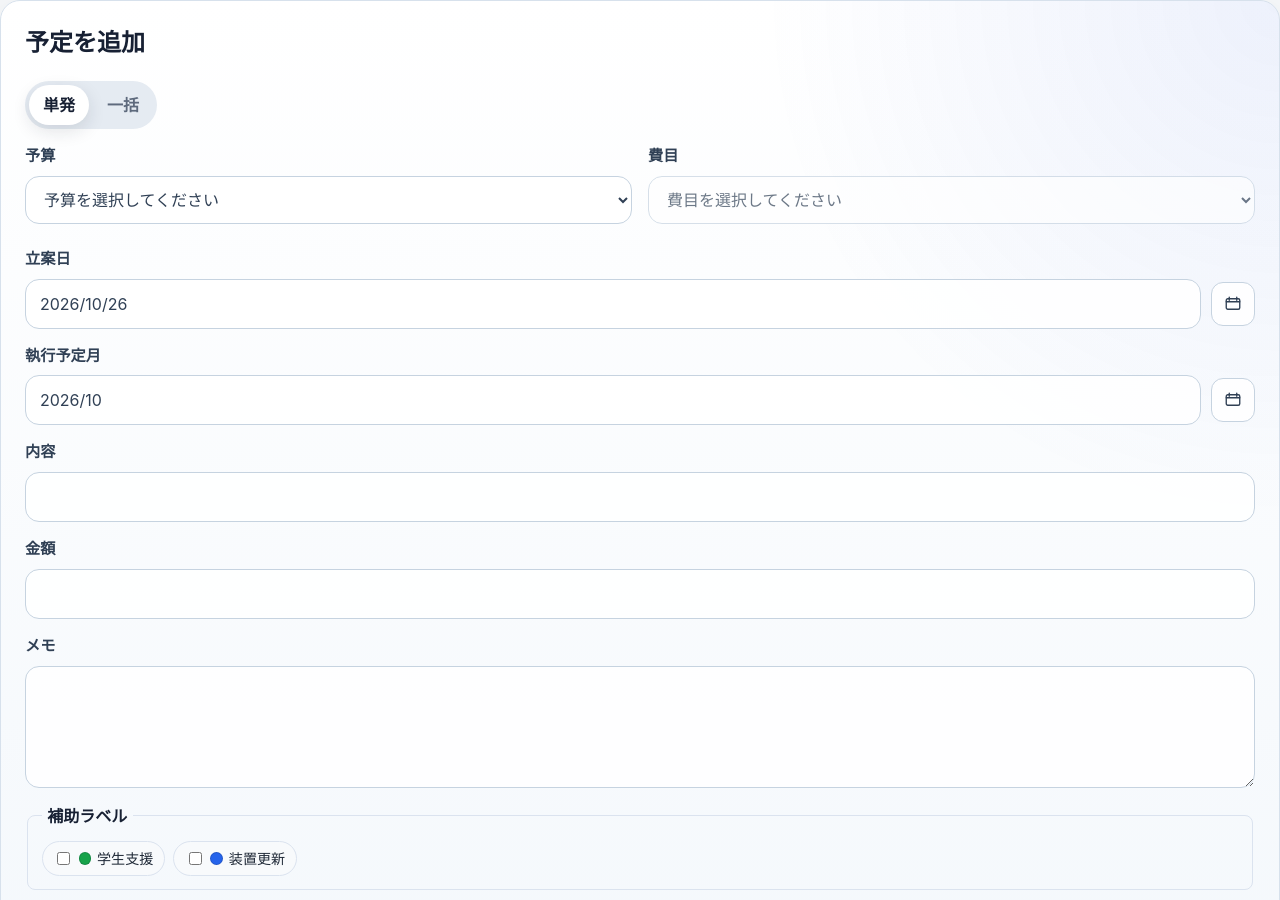
Scenario: PlannedItemForm › moves the month calendar by year and selects a YYYY/MM month
Replace the text in the field labelled "執行予定月" with "2026/08". click: (613, 400)
box: [25, 375, 1201, 425]
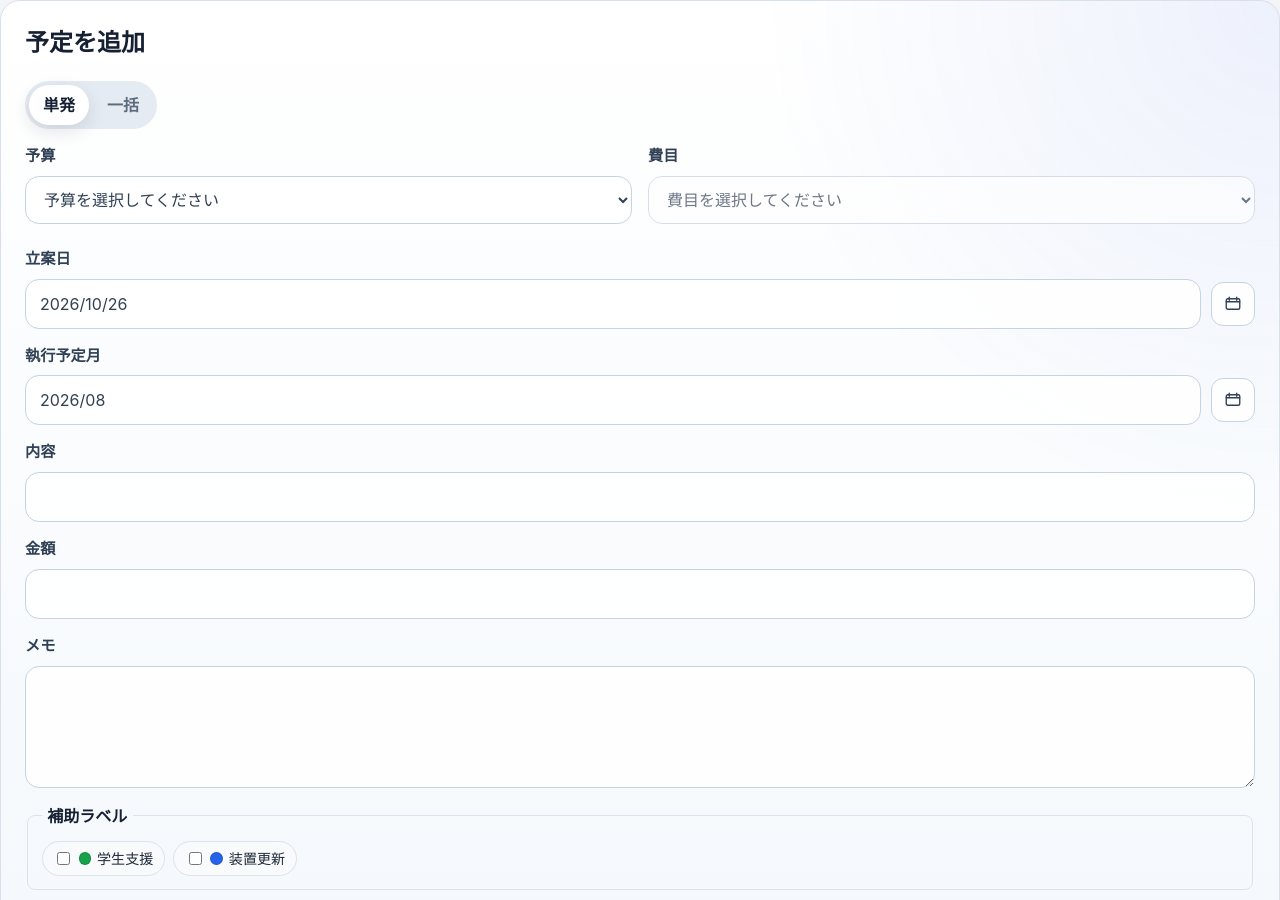
Click the button named "執行予定月カレンダーを開く". click: (1233, 400)
box: [1211, 378, 1255, 422]
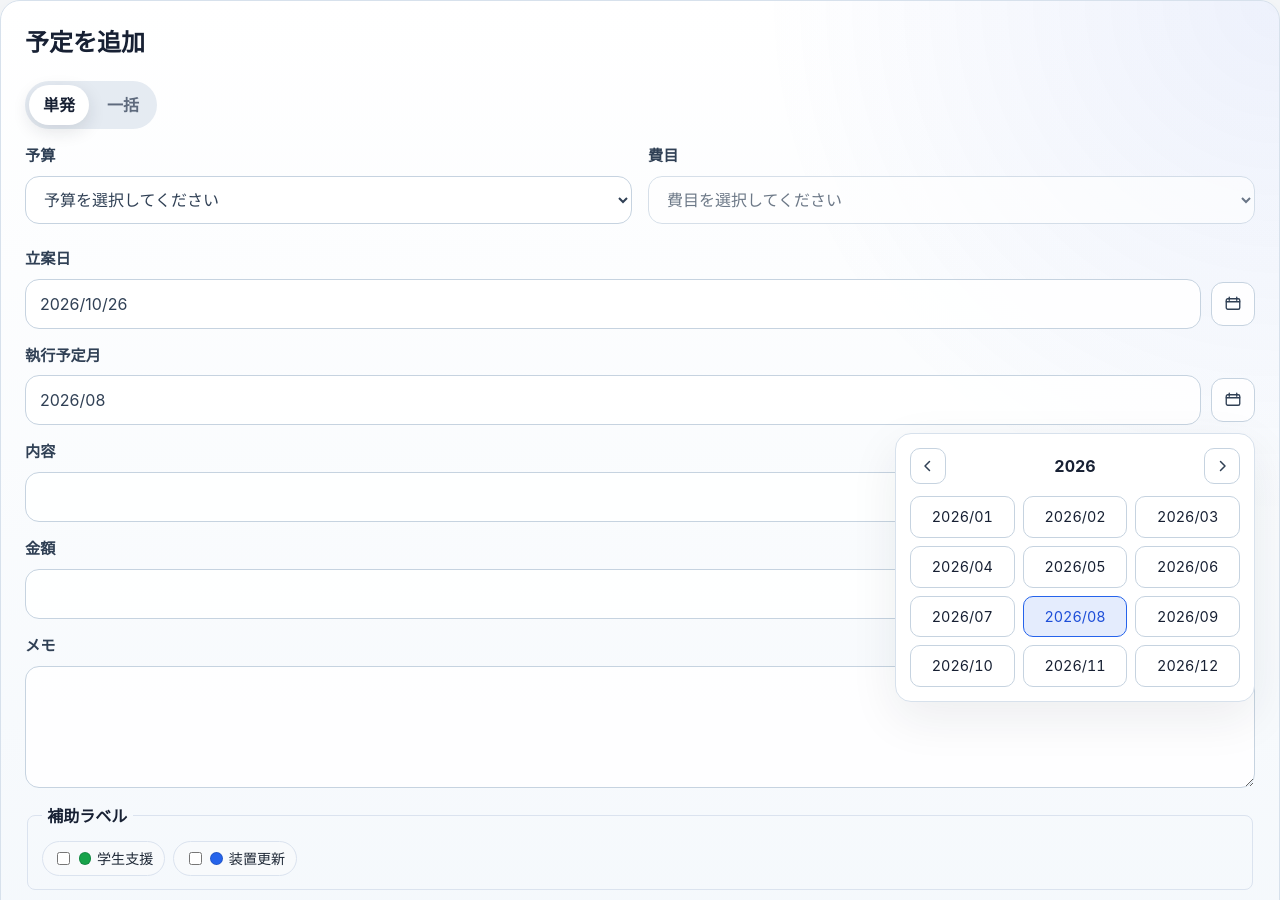
Click the button named "次年へ". click: (1222, 466)
box: [1204, 448, 1240, 484]
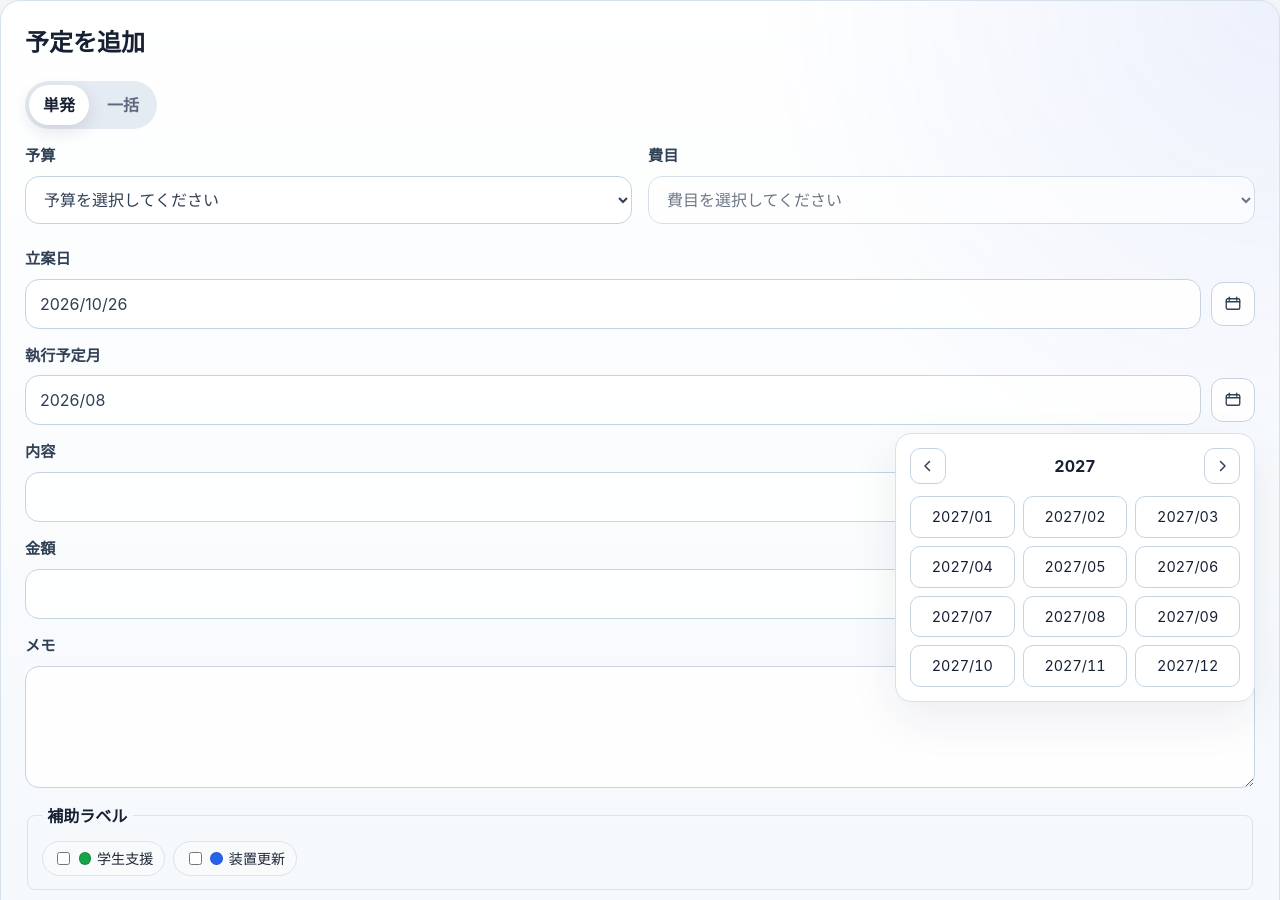
Check: the button "2027/08" is shown, box [1023, 596, 1127, 637]
Click the button named "前年へ". click: (928, 466)
box: [910, 448, 946, 484]
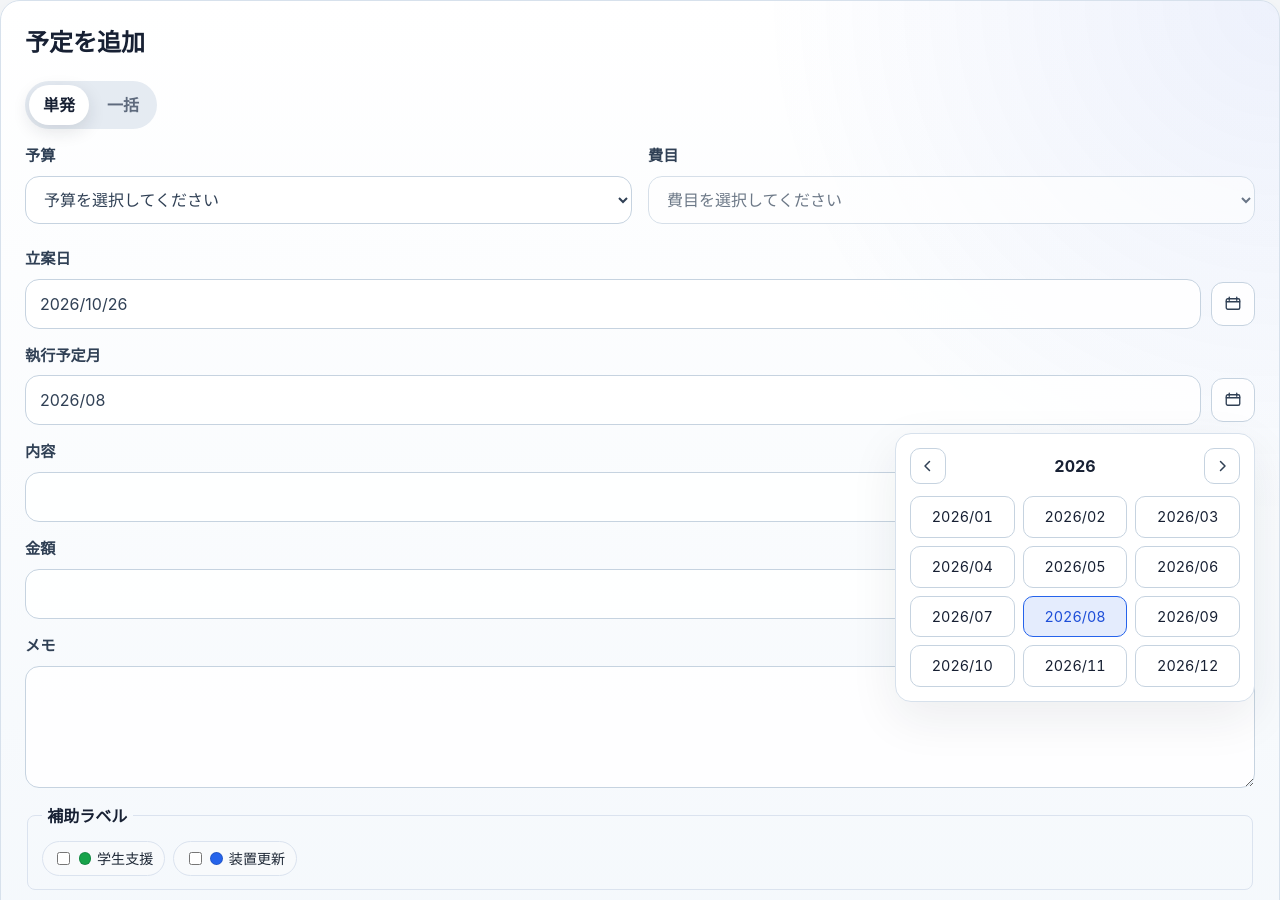
Click the button "2026/09". click: (1188, 616)
box: [1135, 596, 1240, 637]
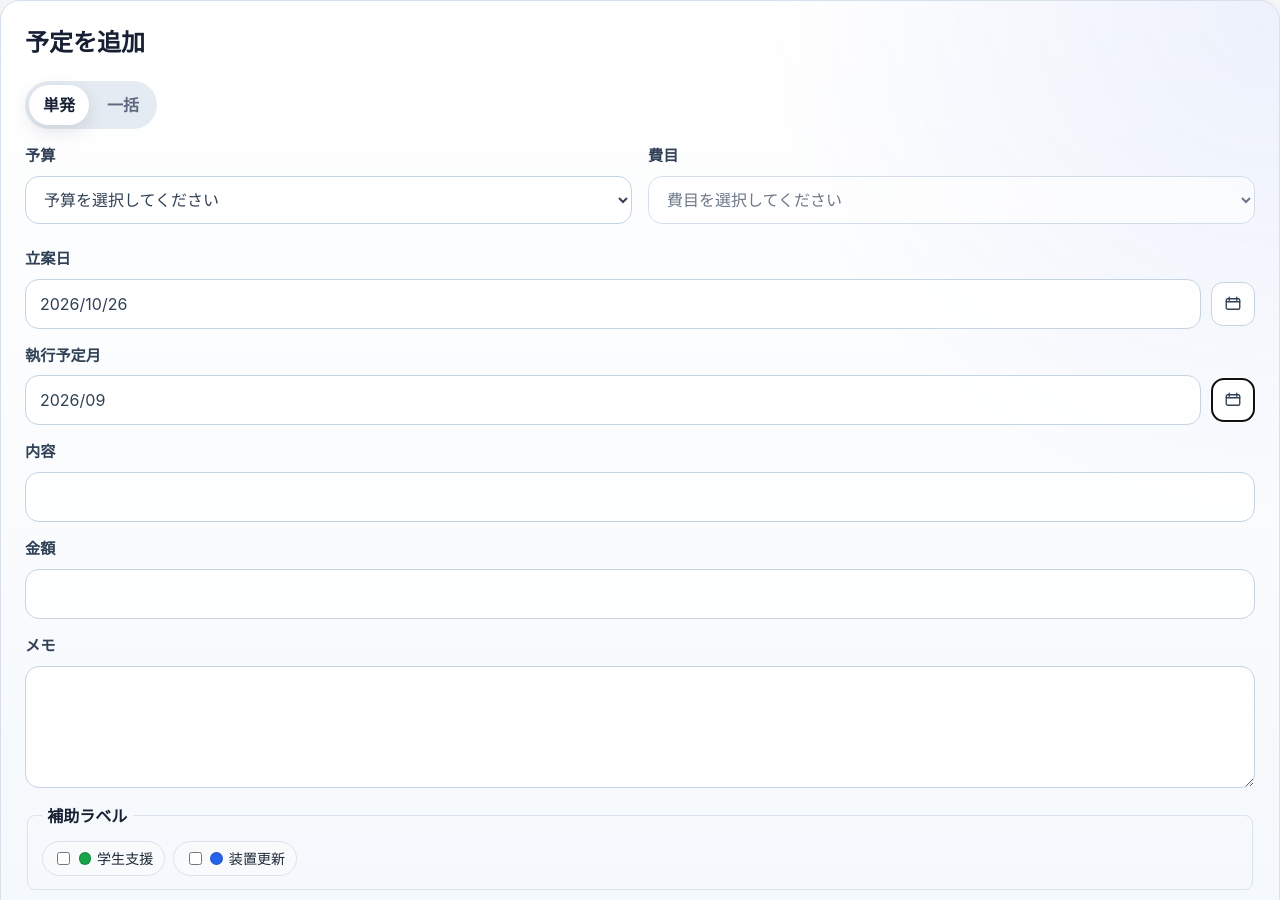
Check: the field labelled "執行予定月" holds "2026/09", box [25, 375, 1201, 425]
Check: the dialog "執行予定月カレンダー" is gone
